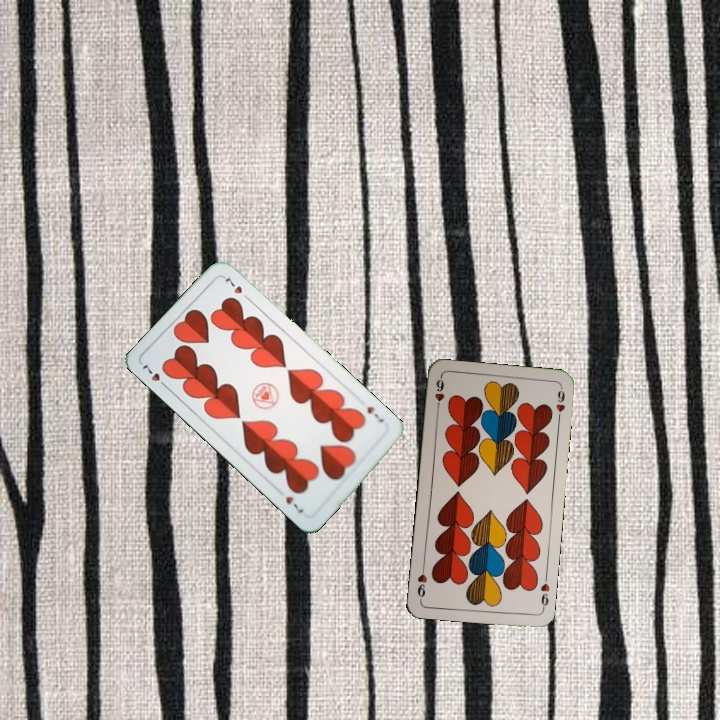H7: (138, 360, 171, 391), (363, 402, 387, 425)
H9: (536, 572, 552, 613), (431, 374, 447, 414)
